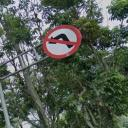NoVirarEsquerda: (42, 22, 84, 60)
